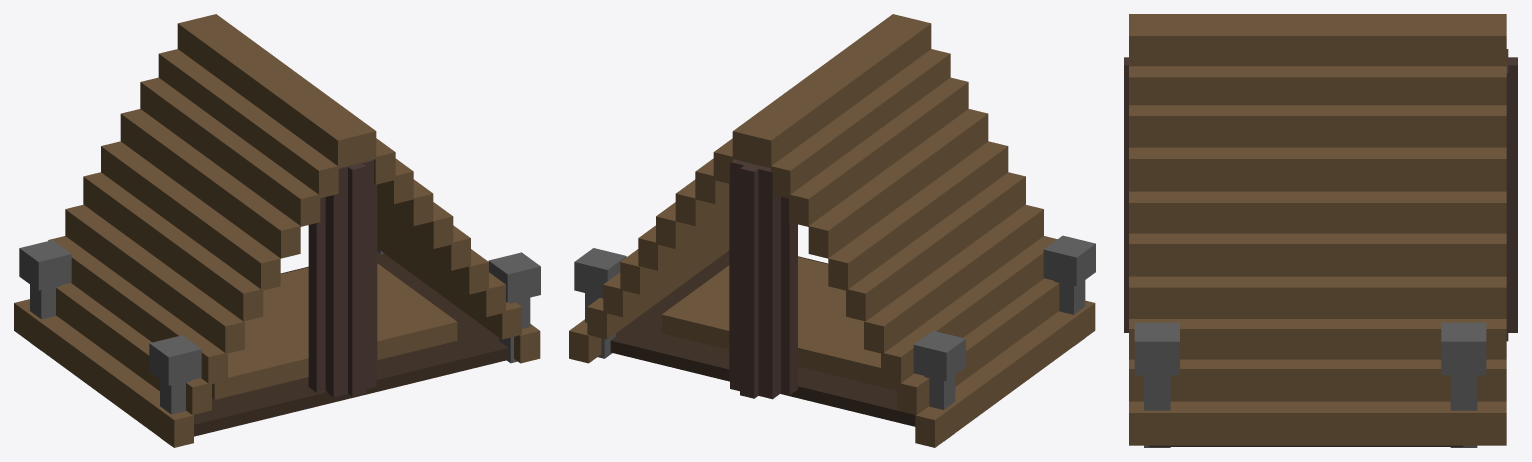
Rendered from Imp_Tent.fbx.
The picture shows the model from 3 angles, left to right: view 1: azimuth 30°, elevation 25°; view 2: azimuth 150°, elevation 25°; view 3: azimuth 270°, elevation 25°; orthographic projection. The views are drawn at different scales.
Parts seen in each view (by area): view 1: Cube.001; view 2: Cube.001; view 3: Cube.001.
Part boxes in pixels (<box>): Cube.001: <box>14,14,540,447</box>; Cube.001: <box>569,14,1095,447</box>; Cube.001: <box>1124,14,1517,447</box>.
Bounding box in the file's own units: 529 × 368 × 411.
